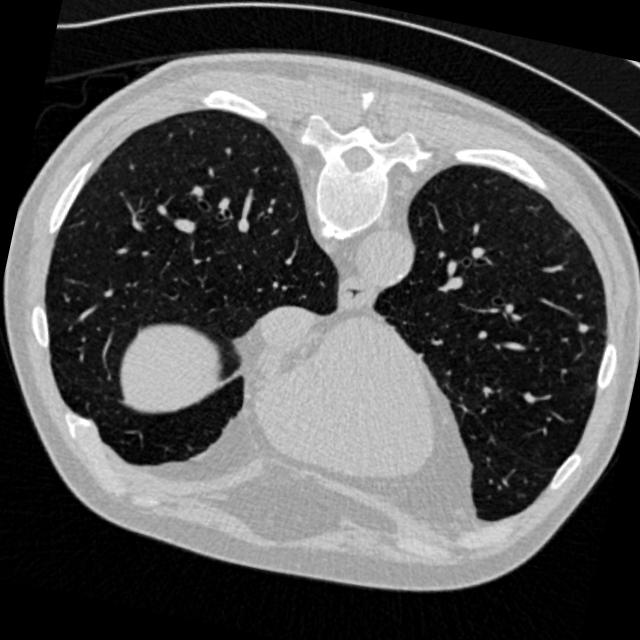nodule: (565, 313, 595, 343)
